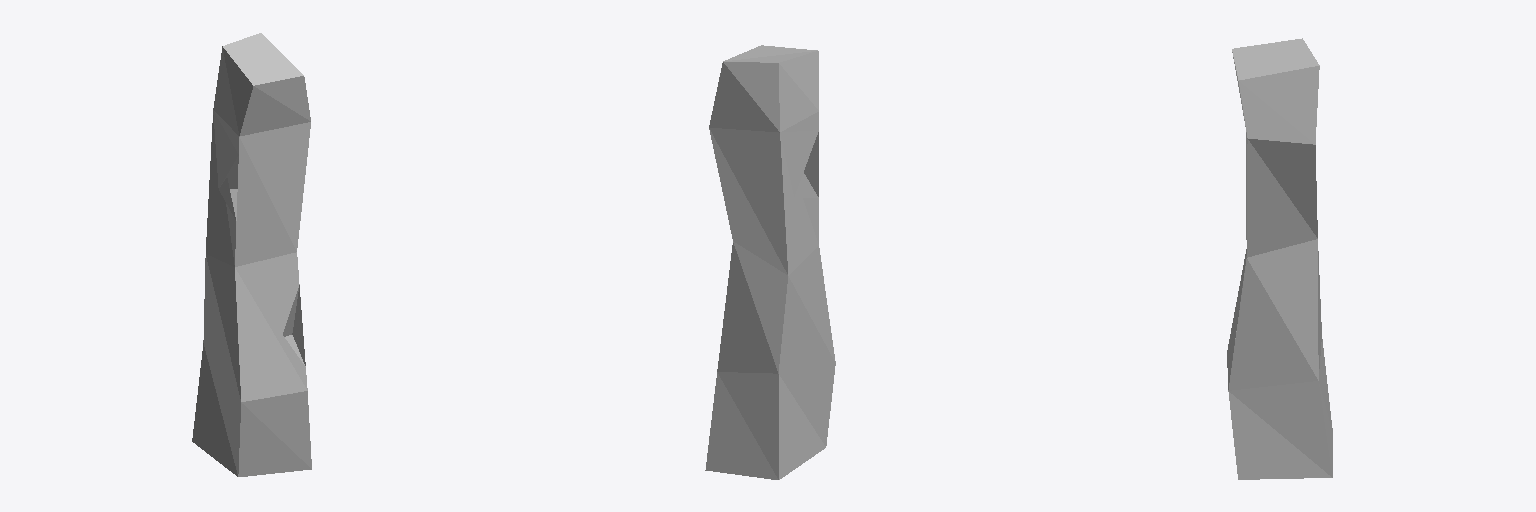
File: Post1.obj
3 views of the same model, side by side, from view 1: azimuth 30°, elevation 25°; view 2: azimuth 150°, elevation 25°; view 3: azimuth 270°, elevation 25° (orthographic).
Visible parts, largest first — view 1: Bridge_Large_Support_3.001_Cube.007; view 2: Bridge_Large_Support_3.001_Cube.007; view 3: Bridge_Large_Support_3.001_Cube.007.
Boxes of the visible parts, x1,y1,x2,y2 form: Bridge_Large_Support_3.001_Cube.007: [192, 33, 311, 476]; Bridge_Large_Support_3.001_Cube.007: [705, 45, 835, 479]; Bridge_Large_Support_3.001_Cube.007: [1227, 38, 1332, 479].
Bounding box in the file's own units: 0.9542 × 4.57 × 1.06.